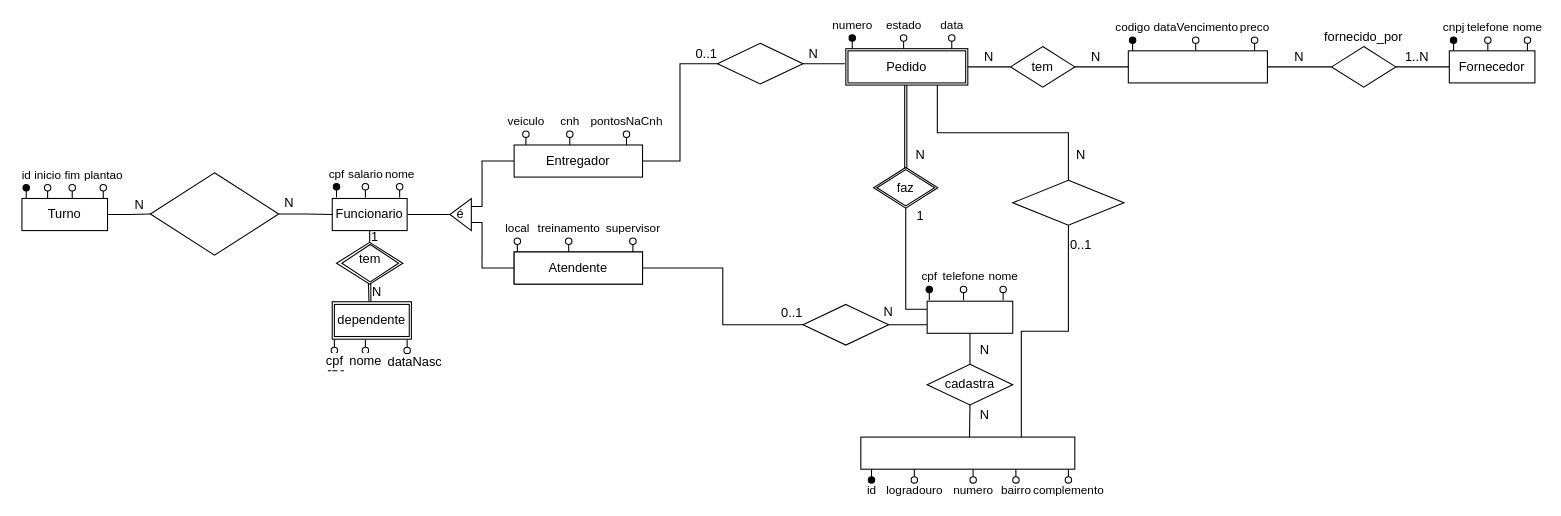
Image size: 1561x516. Some labels were removed from this diagram. Each missing label, with the box of its shape:
atende: (802, 303, 889, 345)
Cliente: (926, 300, 1013, 333)
Endereco: (860, 436, 1075, 469)
entrega: (716, 42, 803, 84)
entregue_em: (1012, 179, 1124, 225)
produto: (1127, 50, 1267, 83)
trabalha_em_um: (149, 172, 279, 255)
